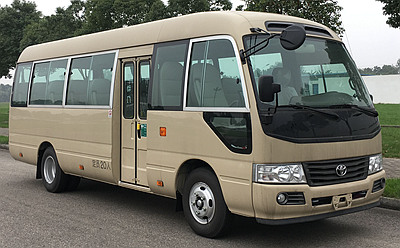midcar: (10, 17, 382, 222)
